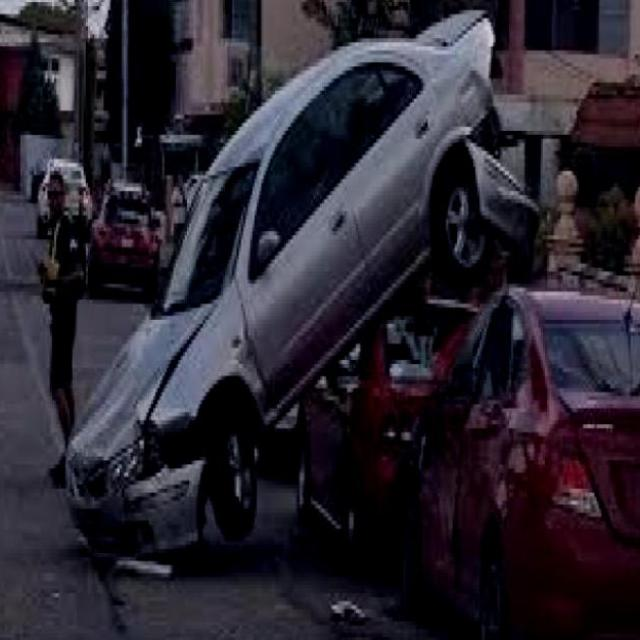accident: (63, 10, 505, 567)
